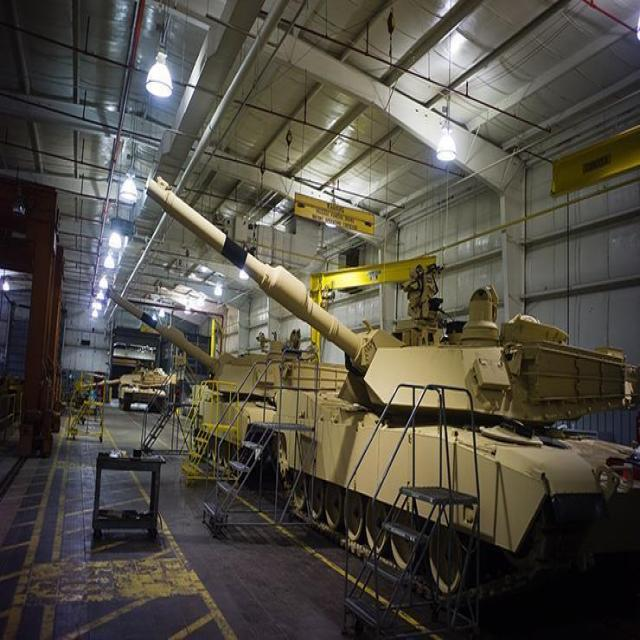Tanks: (285, 267, 620, 575), (119, 296, 340, 474), (106, 360, 172, 420)
